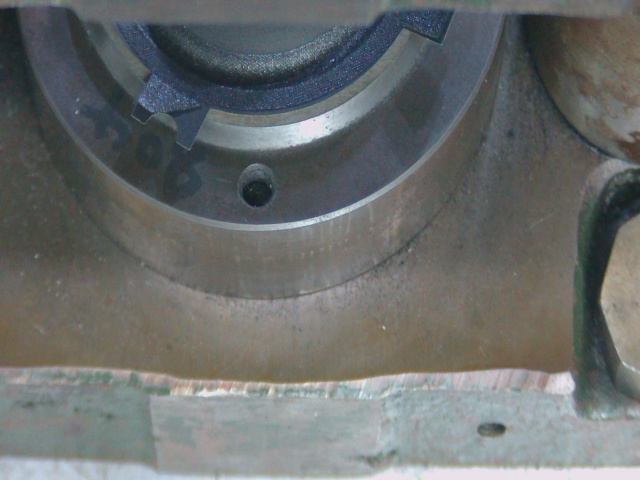NG: (133, 77, 219, 158)
